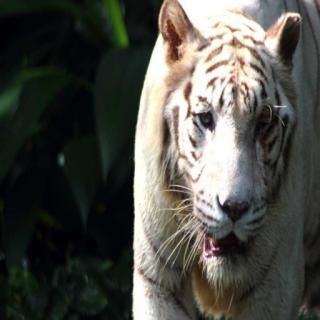Tiger: (112, 6, 320, 320)
